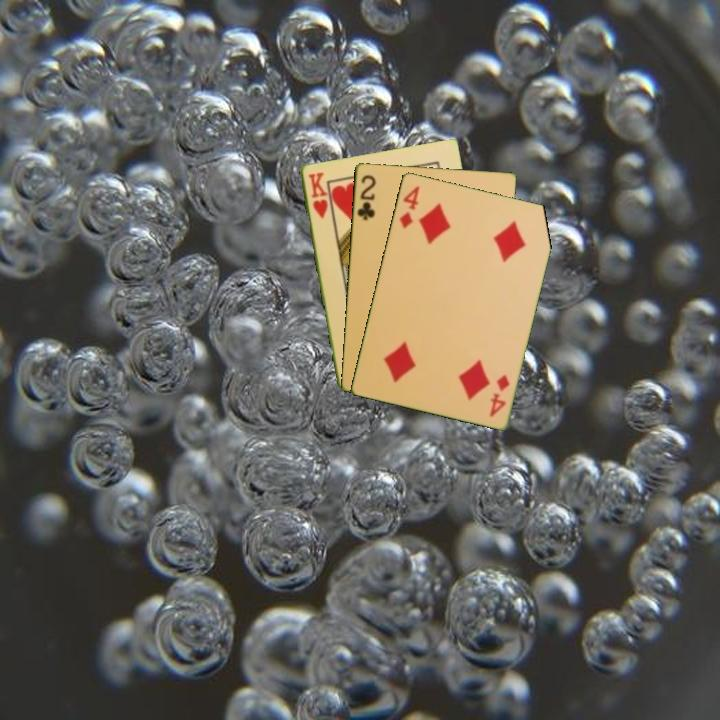2c: (353, 171, 378, 223)
4d: (395, 182, 422, 231), (486, 371, 512, 420)
Kh: (304, 169, 330, 221)
